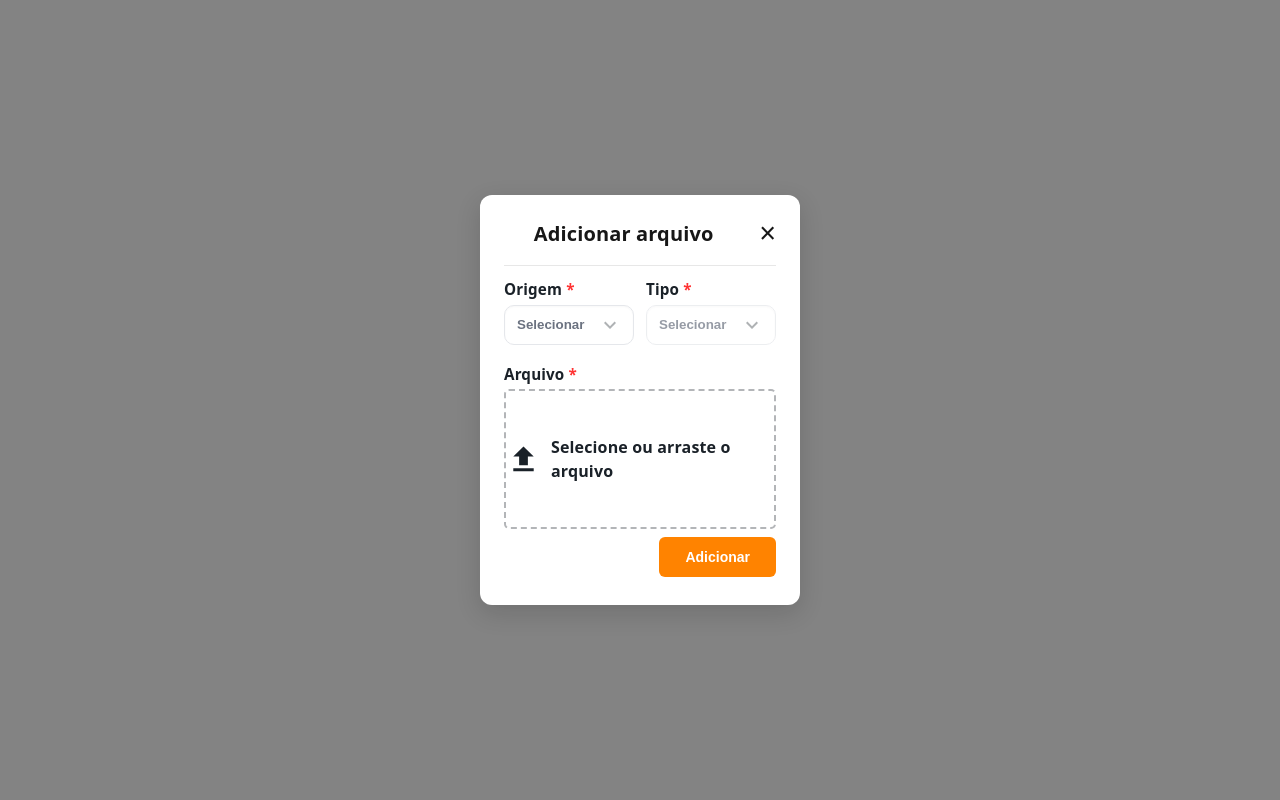
Test case: AddFileModal (basic) › validation on empty submit shows basic errors
Click the button "Adicionar".
click(718, 557)  # box [659,537,776,577]
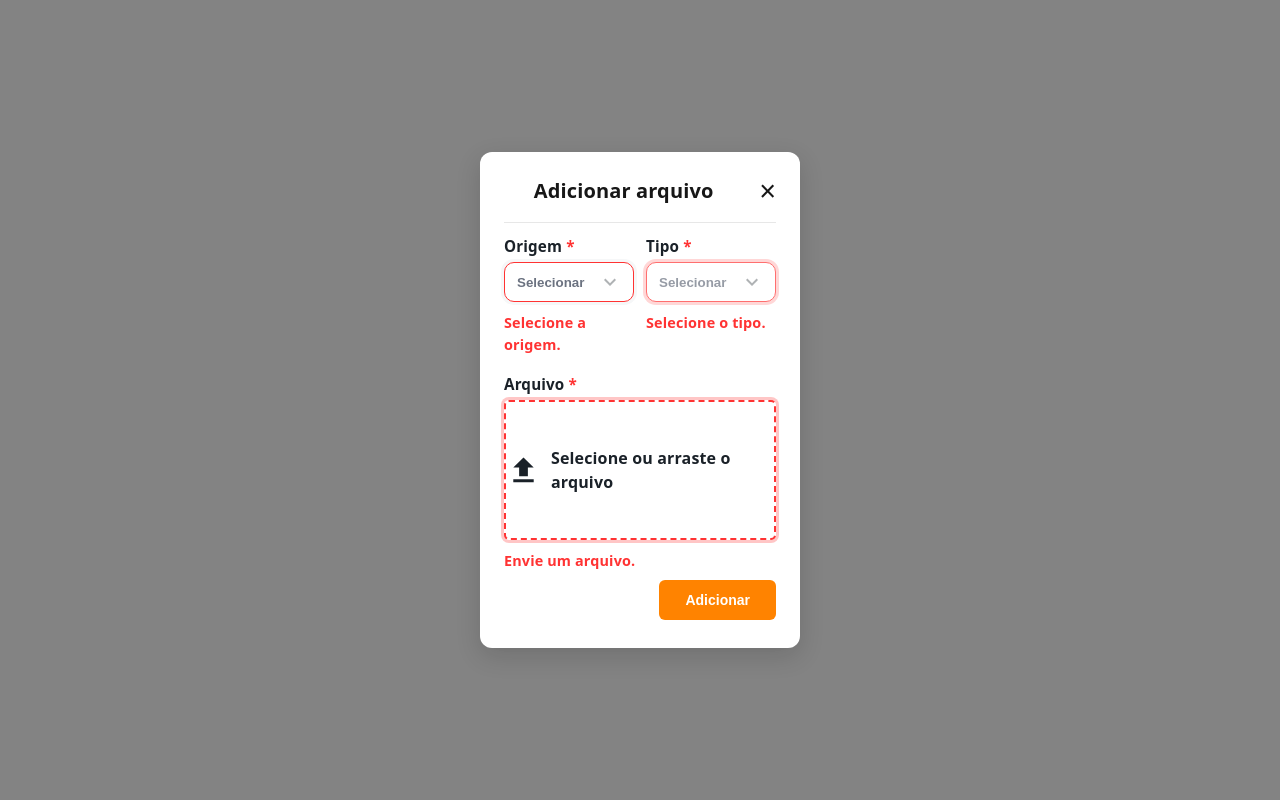
Now the text "Selecione a origem." is shown, box [504,313,586,354]
Now the text "Selecione o tipo." is shown, box [646,312,776,334]
Now the text "Envie um arquivo." is shown, box [504,551,635,570]
